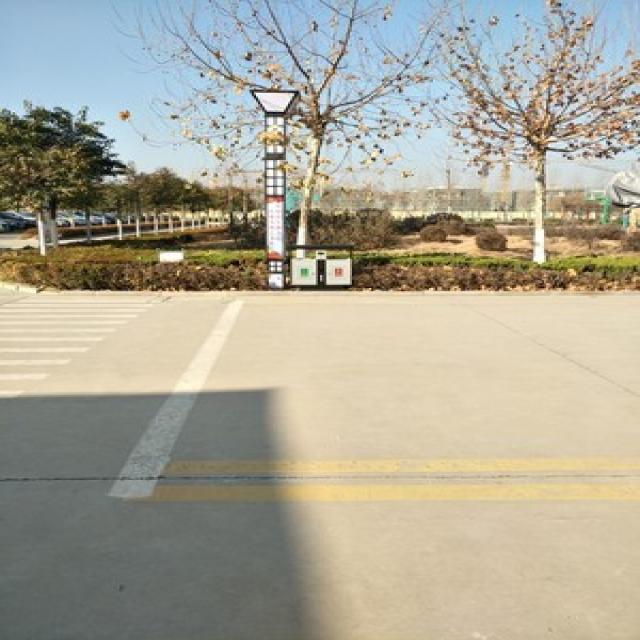ash bin: (282, 240, 356, 290)
